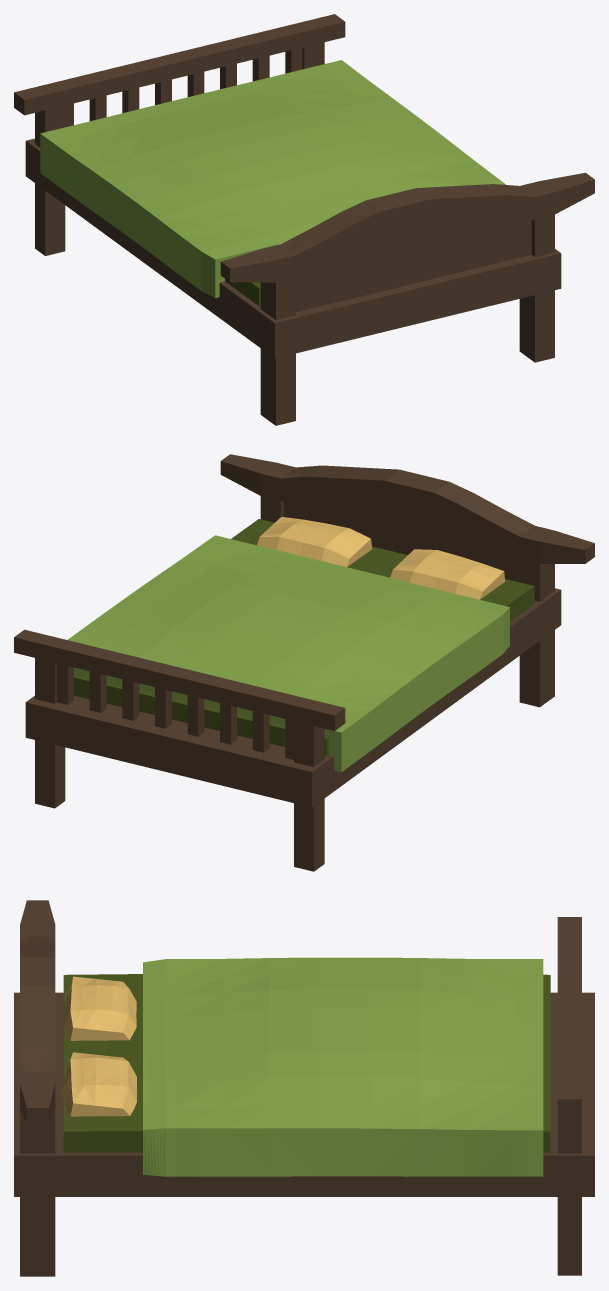
File: oldmanbed.fbx
3 views of the same model, one above another, from view 1: azimuth 30°, elevation 25°; view 2: azimuth 150°, elevation 25°; view 3: azimuth 270°, elevation 25° (orthographic). The views are drawn at different scales.
Parts seen in each view (by area): view 1: Bed; view 2: Bed; view 3: Bed.
Part boxes in pixels (x1,y1,x2,y2): Bed: (14, 14, 594, 425); Bed: (14, 454, 594, 871); Bed: (14, 900, 594, 1276).
Size of the model in its own units: 775 by 383 by 917.
